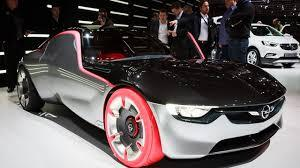opel: (258, 104, 272, 119)
